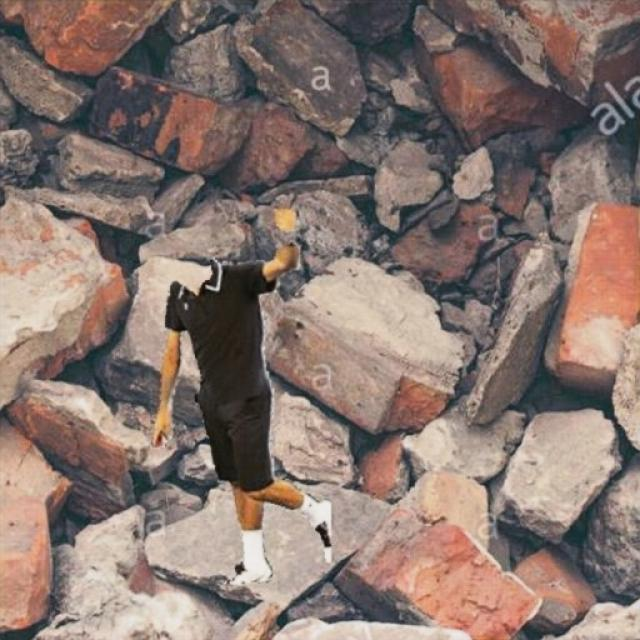Person in Rubble: (151, 208, 330, 582)
